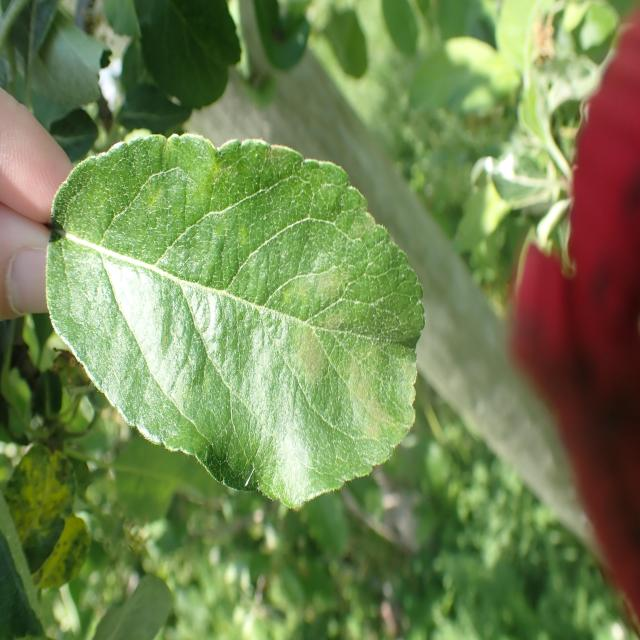scab: (68, 170, 435, 487)
